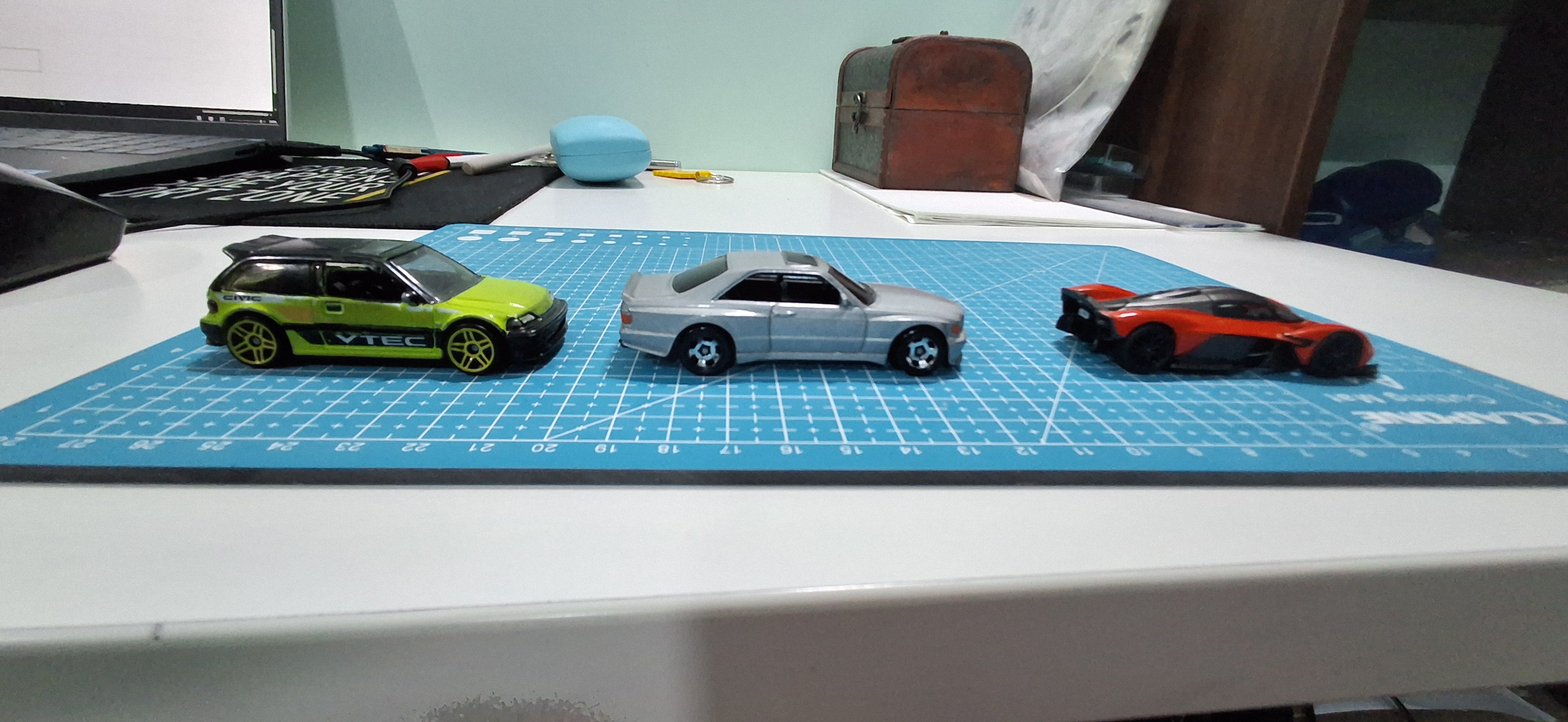Aston_Martin_Valkyrie: (1036, 254, 1409, 404)
Honda_Civic: (173, 201, 579, 416)
Mercedes_Benz_560_SEC_AMG: (601, 219, 1004, 423)
